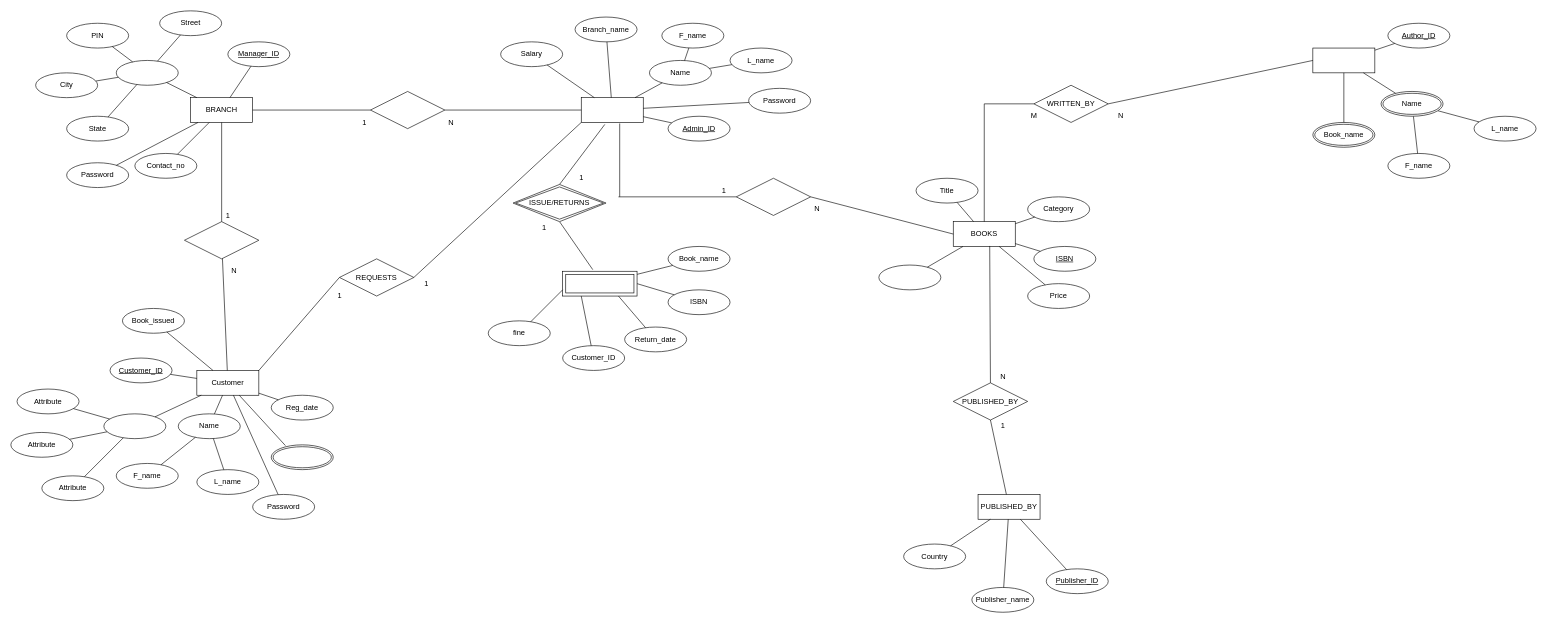
Some shapes in this 1547 by 623 pixel diagram are drawn without their labels. The shapes that lost their labels are listed below. From the top down, each one's centre as x and y in pixels, then its label:
At (x=147, y=72): "Address".
At (x=1343, y=60): "AUTHOR".
At (x=407, y=110): "MANGE".
At (x=612, y=109): "ADMINS".
At (x=773, y=196): "UPDATES".
At (x=221, y=240): "REGISTER".
At (x=599, y=283): "ISSUE/RETURN".
At (x=909, y=277): "Status".
At (x=134, y=426): "Addr".
At (x=302, y=457): "Phone_no".
